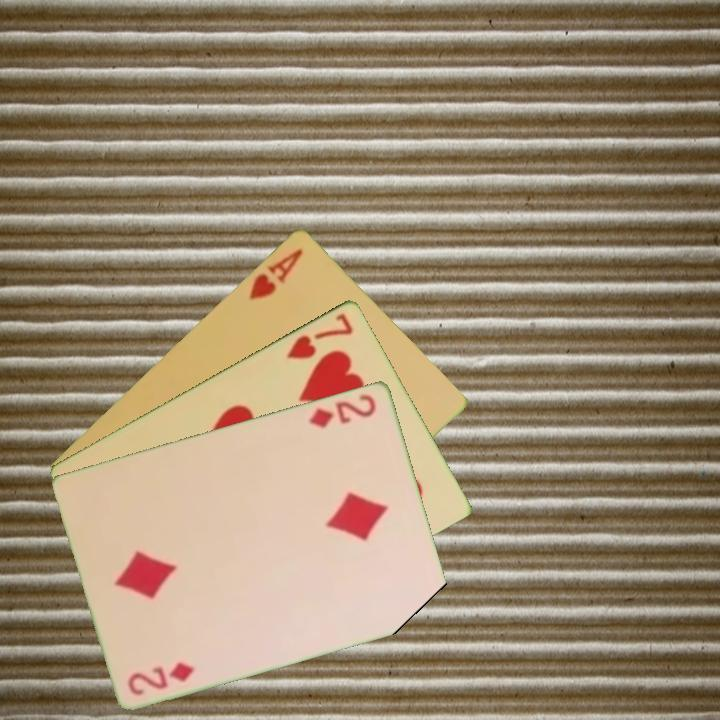2d: (124, 658, 198, 698), (306, 390, 379, 430)
7h: (282, 309, 356, 362)
Ah: (245, 244, 306, 302)
